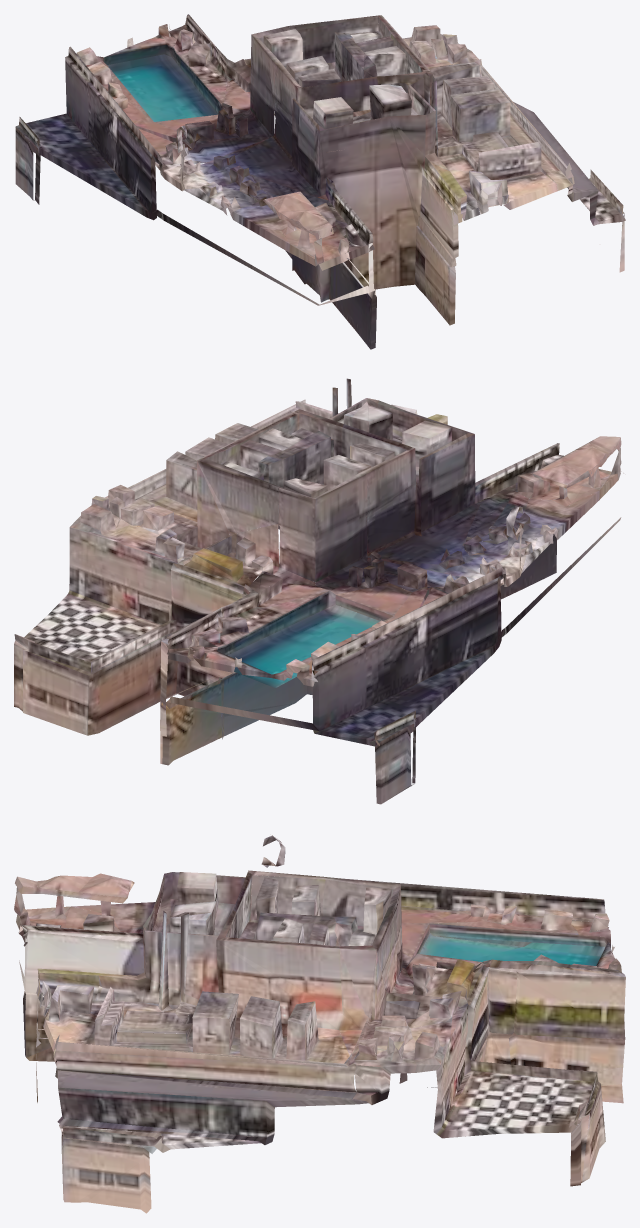
The picture shows the model from 3 angles, top to bottom: view 1: azimuth 30°, elevation 25°; view 2: azimuth 150°, elevation 25°; view 3: azimuth 270°, elevation 25°; orthographic projection. The views are drawn at different scales.
Visible parts, largest first — view 1: Mesh_0; view 2: Mesh_0; view 3: Mesh_0.
Boxes of the visible parts, x1,y1,x2,y2 form: Mesh_0: [15, 14, 625, 349]; Mesh_0: [14, 378, 623, 804]; Mesh_0: [14, 835, 625, 1213].
Size of the model in its own units: 32.73 by 15.79 by 40.16.
2 materials, 2 textured.
